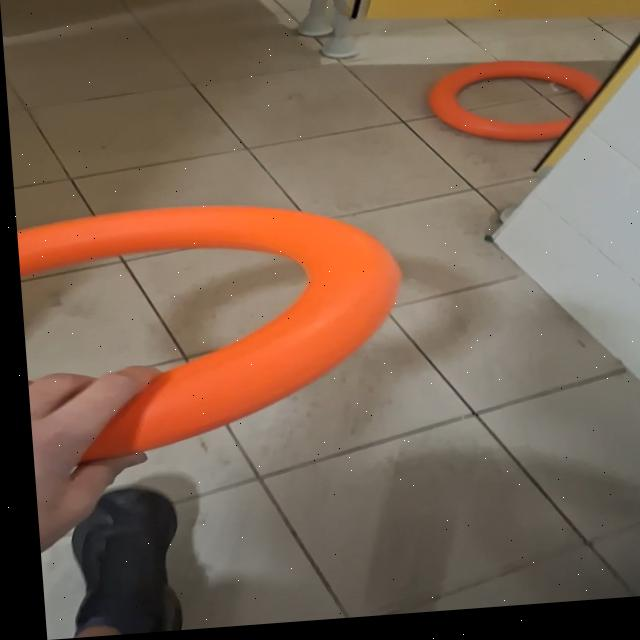note: (14, 195, 409, 466), (423, 61, 604, 156)
